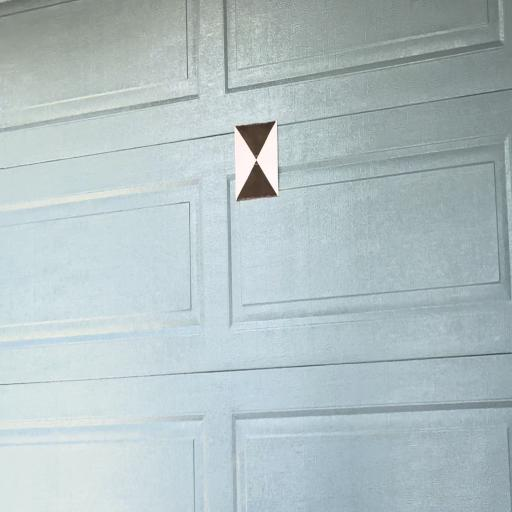target: (235, 118, 279, 200)
